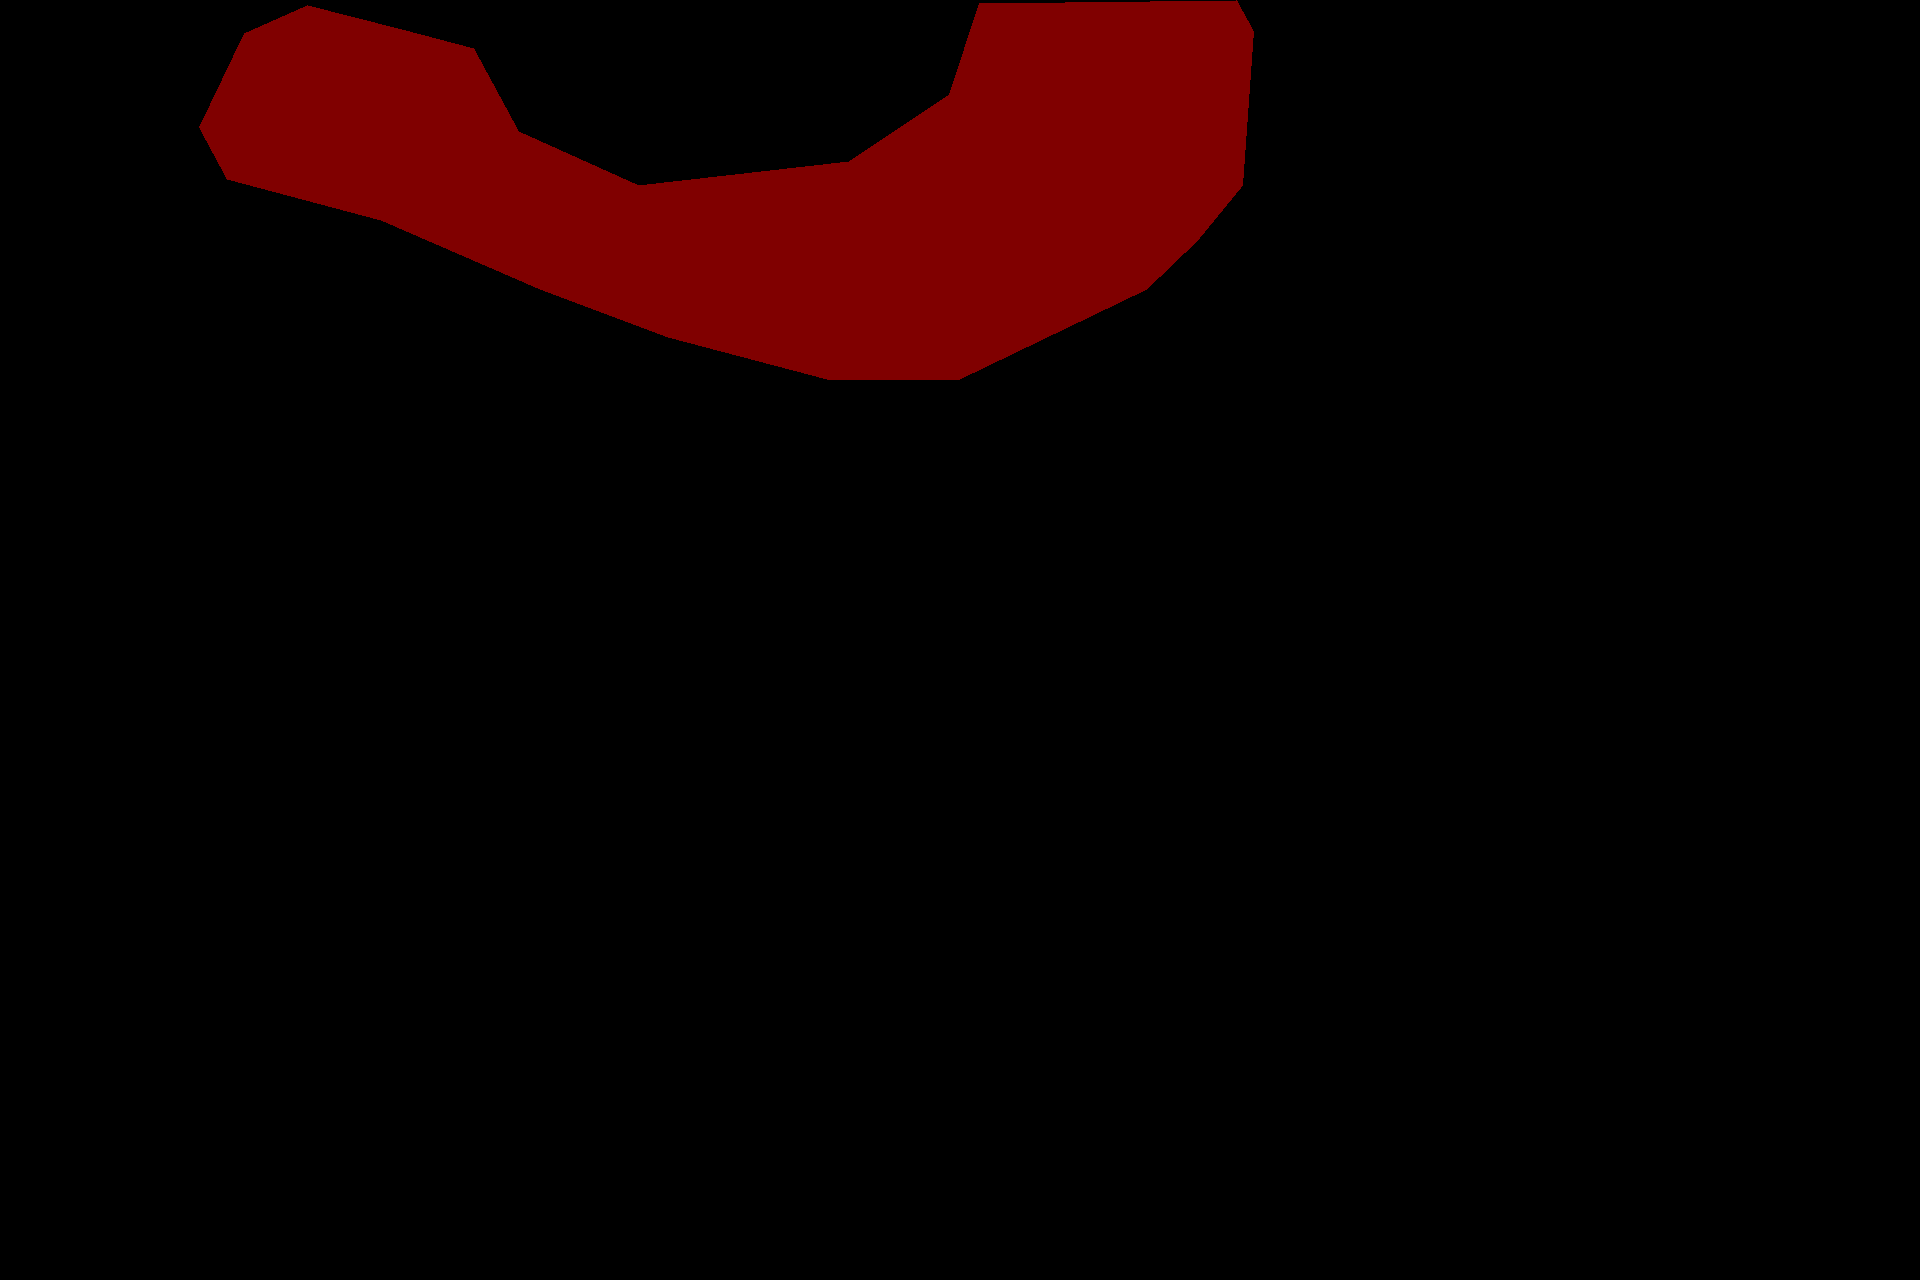fire: (199, 0, 1253, 379)
